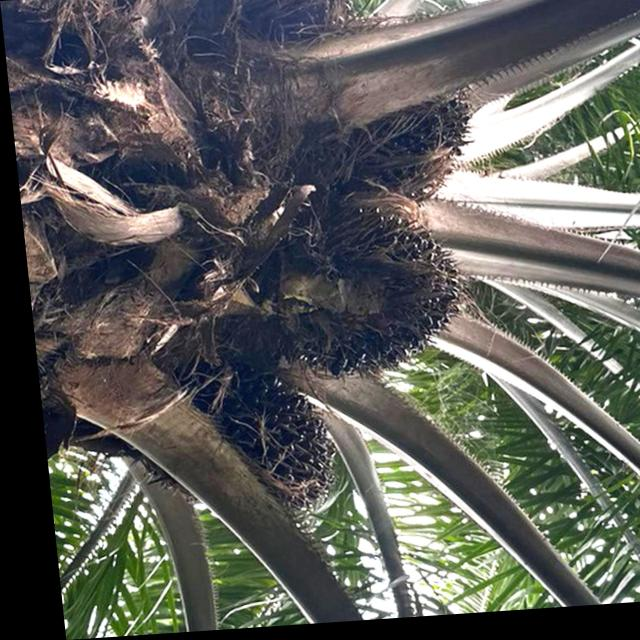unripe: (259, 195, 468, 392)
